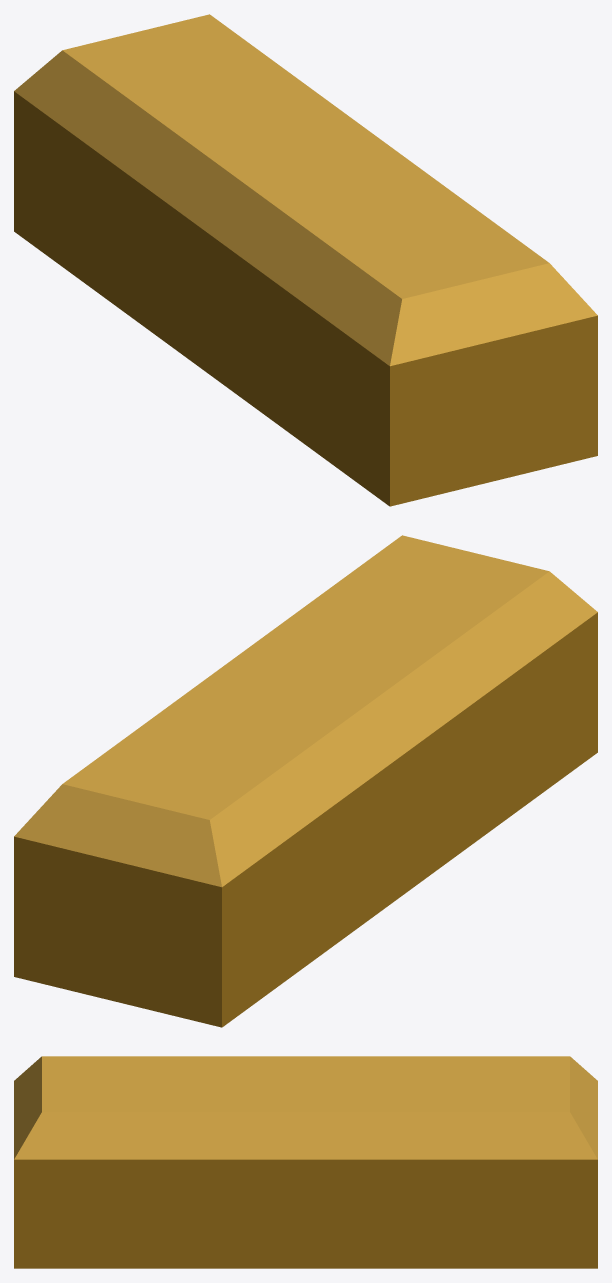
Rendered from SM_Env_Sidewalk_Edge_Cap_01.fbx.
3 renders of one model, top to bottom at view 1: azimuth 30°, elevation 25°; view 2: azimuth 150°, elevation 25°; view 3: azimuth 270°, elevation 25°, orthographic. The views are drawn at different scales.
Visible parts, largest first — view 1: SM_Env_Sidewalk_Edge_Cap_01; view 2: SM_Env_Sidewalk_Edge_Cap_01; view 3: SM_Env_Sidewalk_Edge_Cap_01.
Boxes of the visible parts, x1,y1,x2,y2 form: SM_Env_Sidewalk_Edge_Cap_01: [14, 14, 597, 506]; SM_Env_Sidewalk_Edge_Cap_01: [14, 535, 597, 1027]; SM_Env_Sidewalk_Edge_Cap_01: [14, 1056, 597, 1268].
Bounding box in the file's own units: 17.87 × 15.35 × 55.92.
